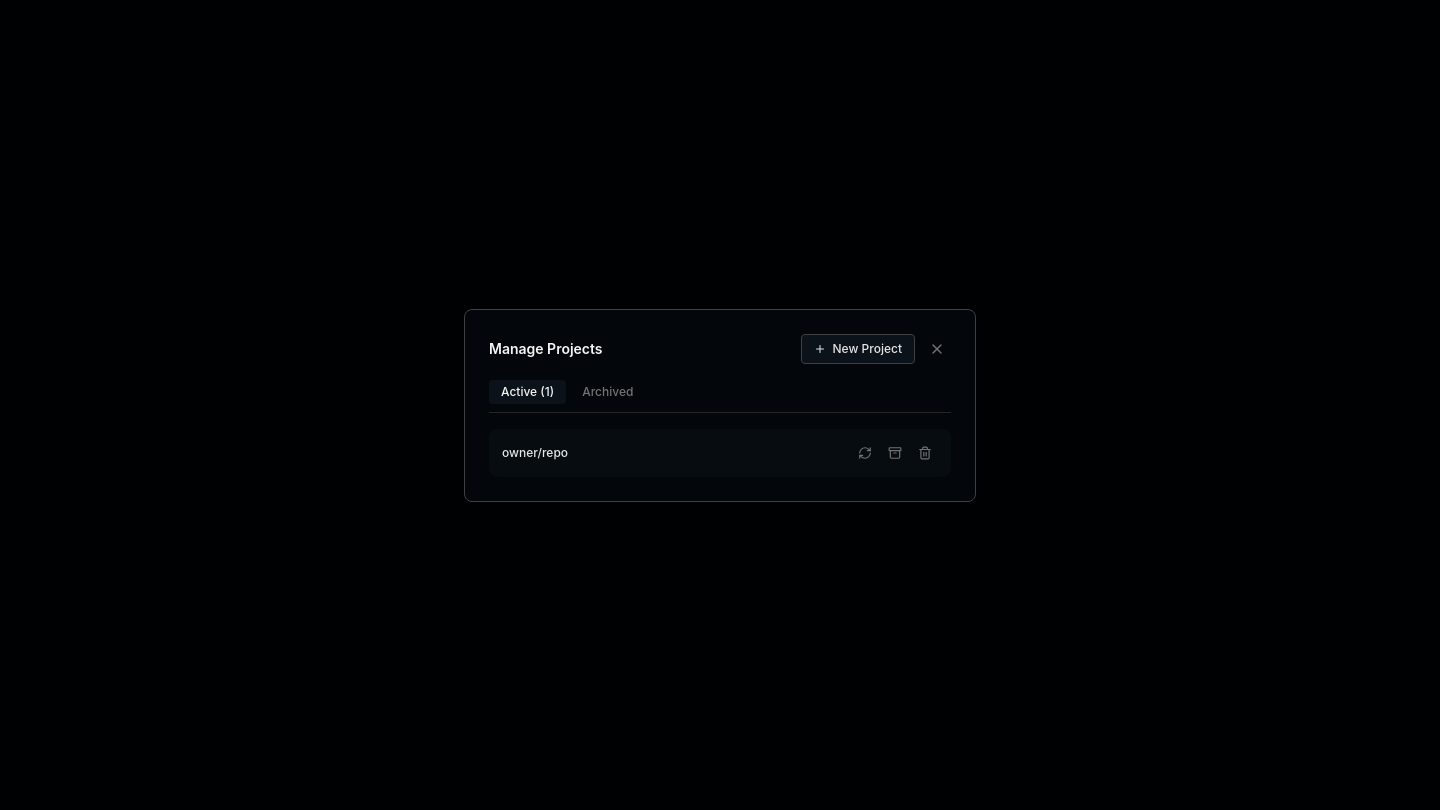
ProjectManagementModal › archived tab fetches archived projects and shows unarchive button
Click the button "Archived".
click(608, 392)  # box [570,380,645,404]
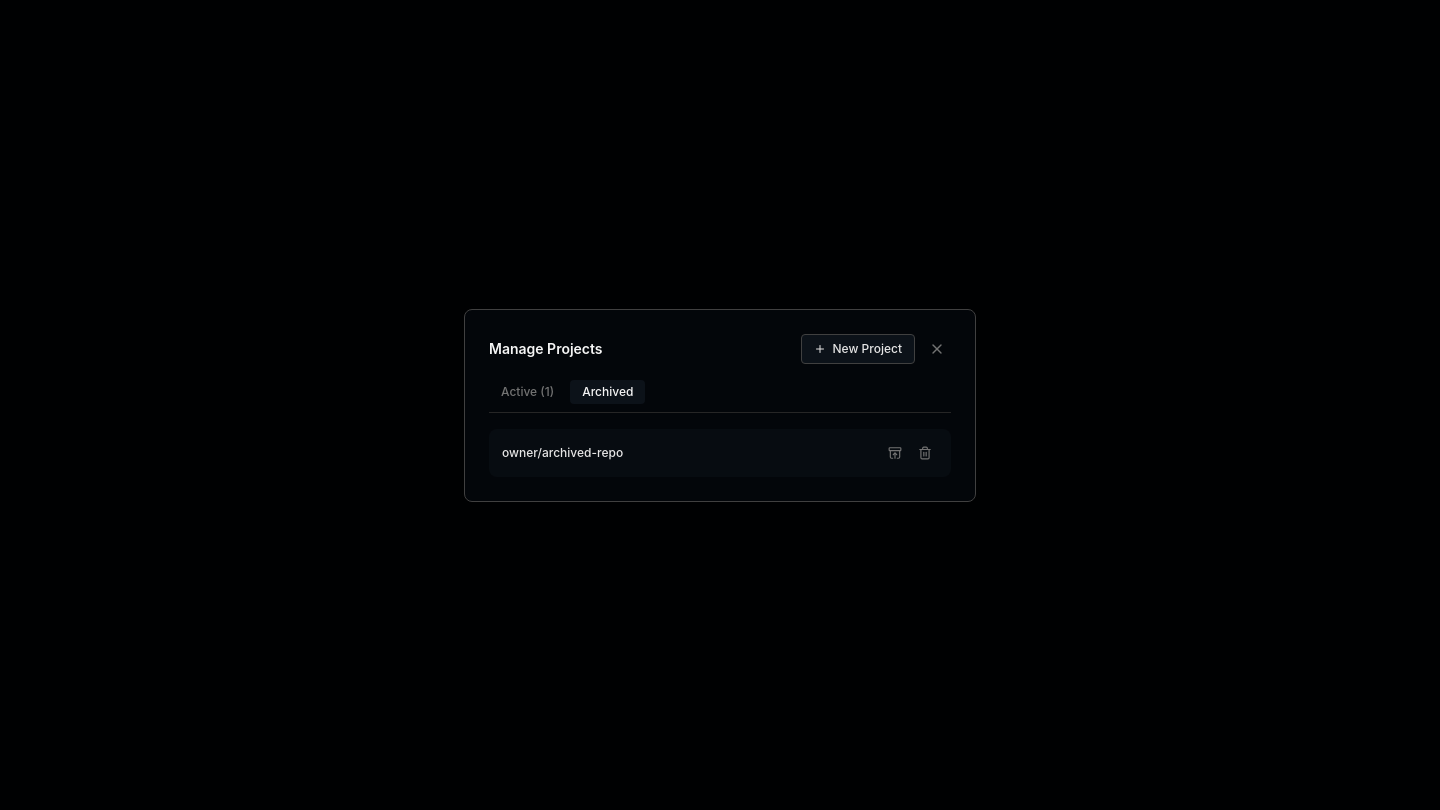
Expected: the button with test id "unarchive-btn-proj-arch" is shown, [882,440,908,466]
